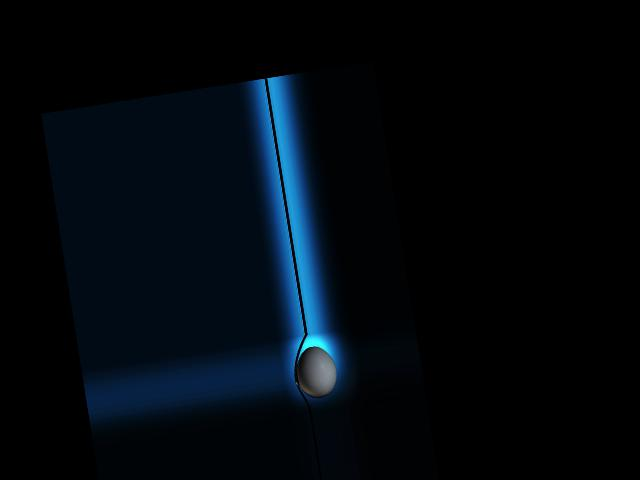egg: (292, 344, 339, 401)
